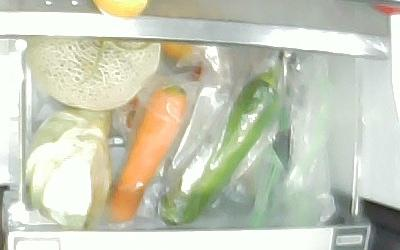cabbage: (22, 107, 111, 229)
carrot_vinyl: (101, 84, 187, 221)
eggplant_vinyl: (270, 49, 293, 173)
melon: (26, 37, 161, 111)
zucchini_vinyl: (152, 68, 279, 225)
